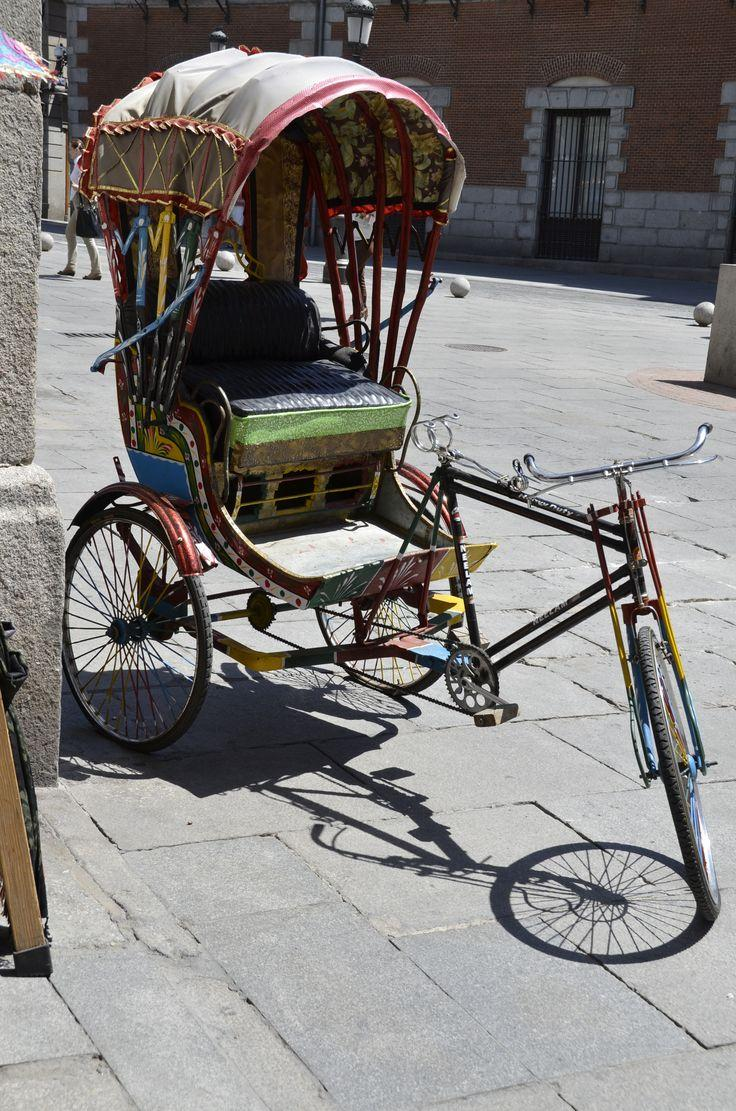Rickshaw: (63, 50, 719, 918)
